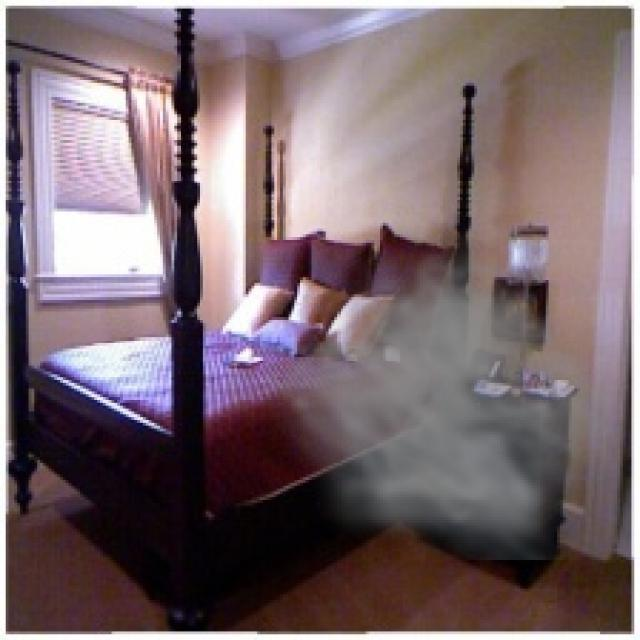Smoke: (259, 215, 632, 560)
